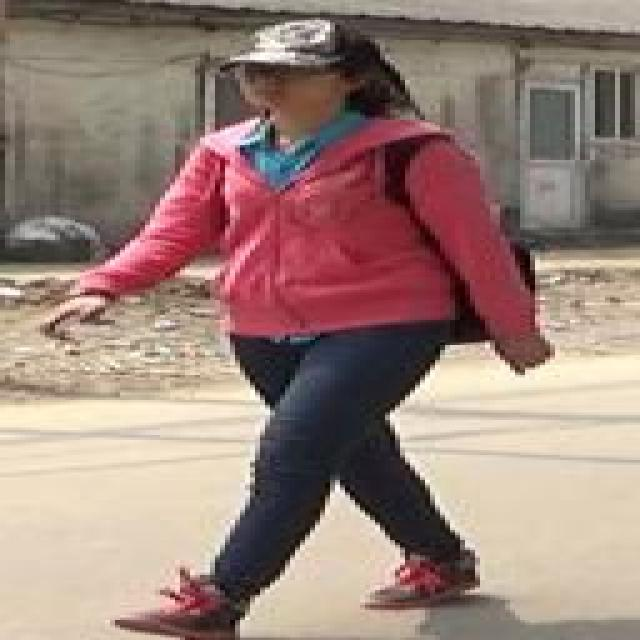adult: (76, 20, 542, 640)
